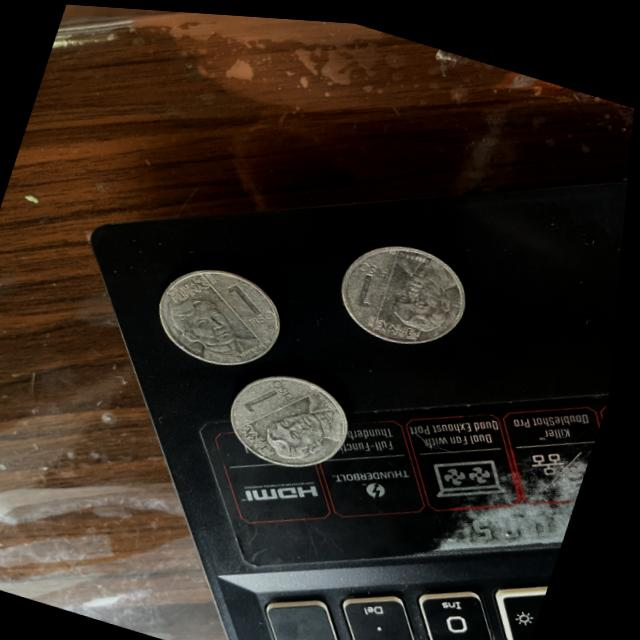1_New_Front: (157, 260, 287, 369), (237, 365, 357, 469), (346, 239, 470, 339)
